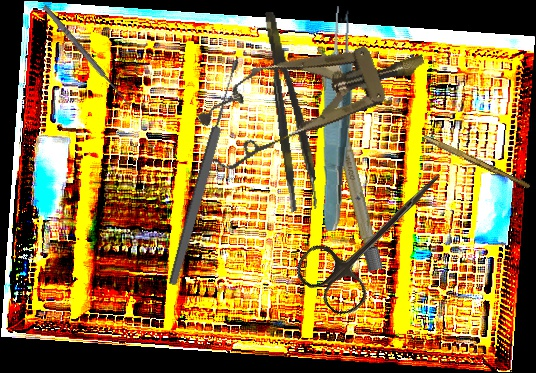Hook Surgical: (40, 0, 138, 109)
Iris Scissors: (289, 145, 465, 323)
Scalpel Handle: (312, 45, 384, 272), (421, 134, 532, 190)
Speculum: (188, 15, 439, 179)
Surgical Spoon: (166, 58, 243, 287)
Tissue Forceps: (262, 8, 320, 213), (316, 5, 359, 232)
